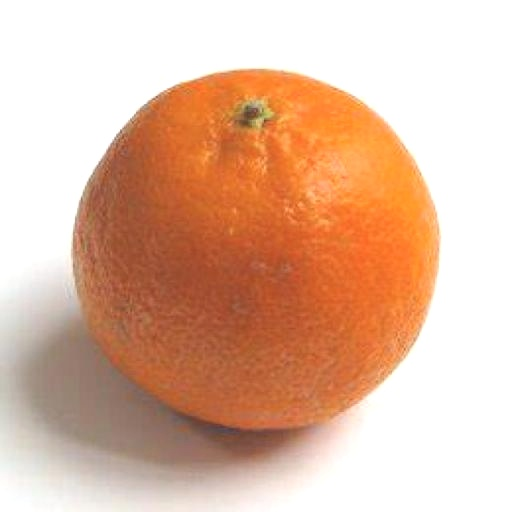fruit: (74, 71, 438, 428)
